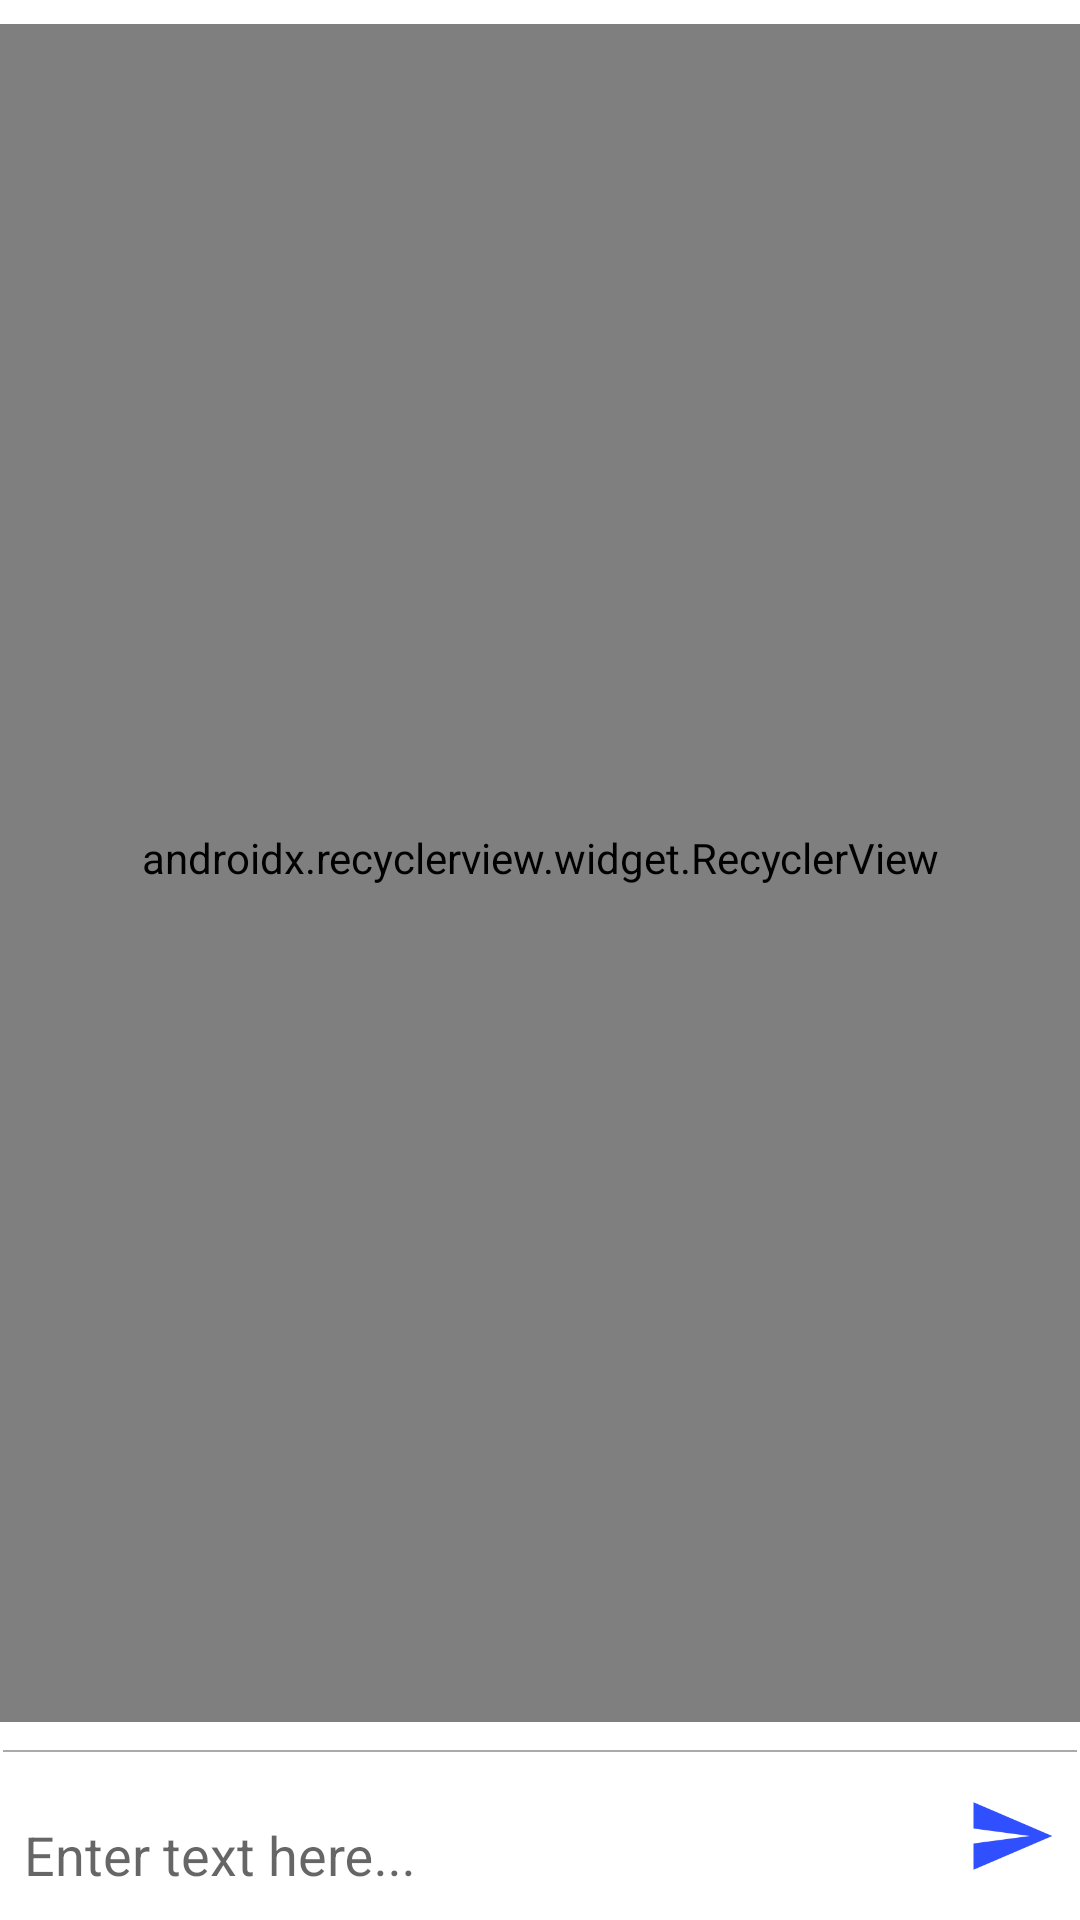

Icon click points for this 1080 × 1920 phone screenshot, format point (x, y):
send: point (1012, 1836)
